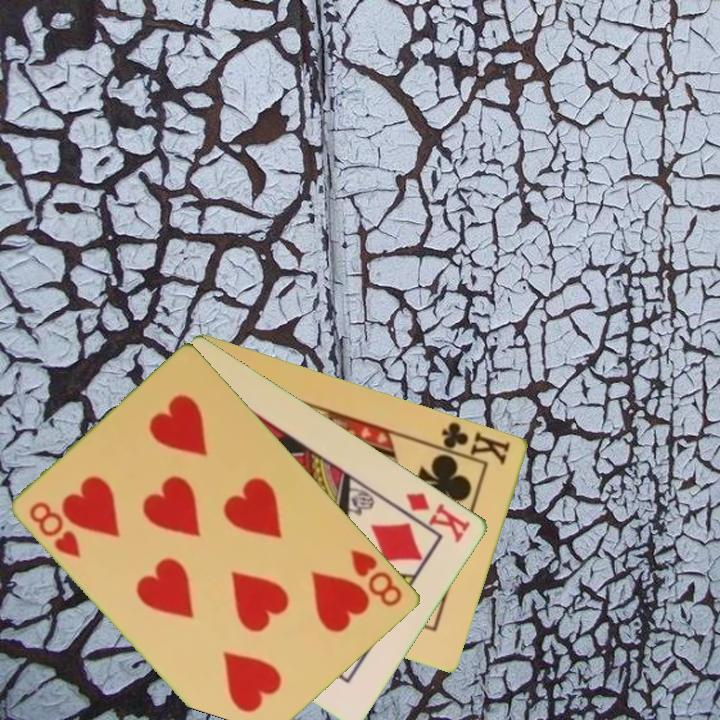8h: (347, 545, 406, 610), (26, 497, 85, 562)
Kc: (431, 417, 514, 468)
Kd: (403, 488, 475, 546)
